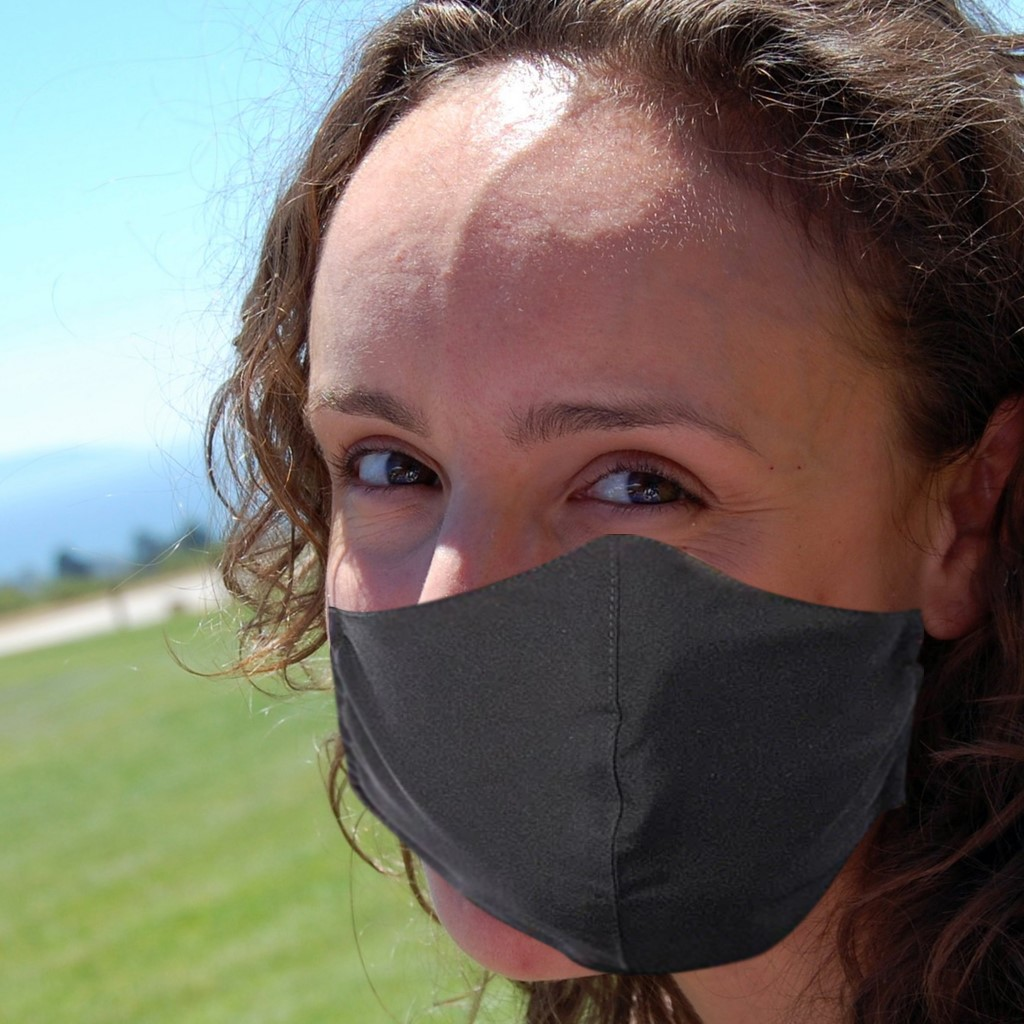con_mascara: (299, 125, 938, 959)
